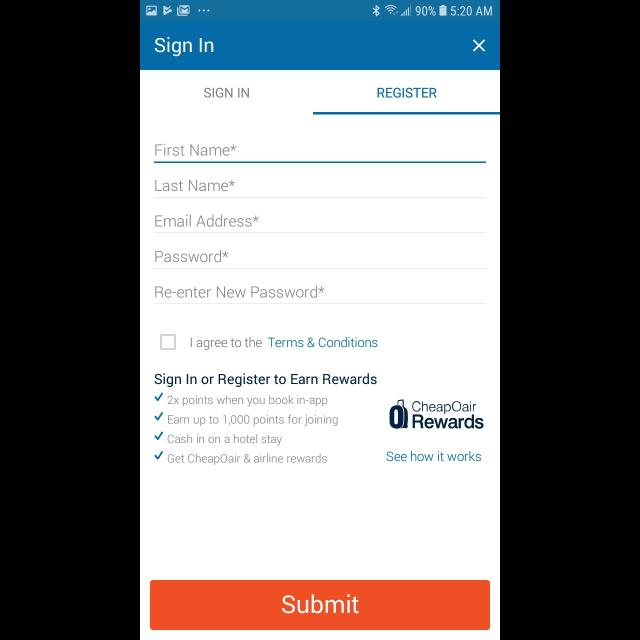checkbox: (160, 334, 176, 350)
icon: (472, 40, 486, 52), (154, 412, 164, 421), (154, 432, 164, 441), (154, 452, 164, 461), (156, 392, 164, 402)
image: (389, 399, 408, 429)
input: (154, 142, 486, 164), (154, 214, 486, 233), (154, 180, 486, 198), (154, 250, 486, 268), (154, 286, 486, 304)
text: (155, 372, 377, 388), (190, 337, 378, 351), (412, 400, 484, 430), (168, 414, 338, 426), (156, 286, 324, 298), (168, 395, 328, 407), (168, 453, 328, 465), (168, 434, 282, 446), (156, 215, 260, 227), (156, 37, 214, 57), (386, 450, 482, 462), (156, 144, 237, 156), (156, 180, 236, 192), (155, 250, 229, 262), (378, 88, 437, 99), (204, 88, 250, 99)
textbutton: (150, 580, 490, 630)
uppertaskbar: (140, 1, 500, 22)
